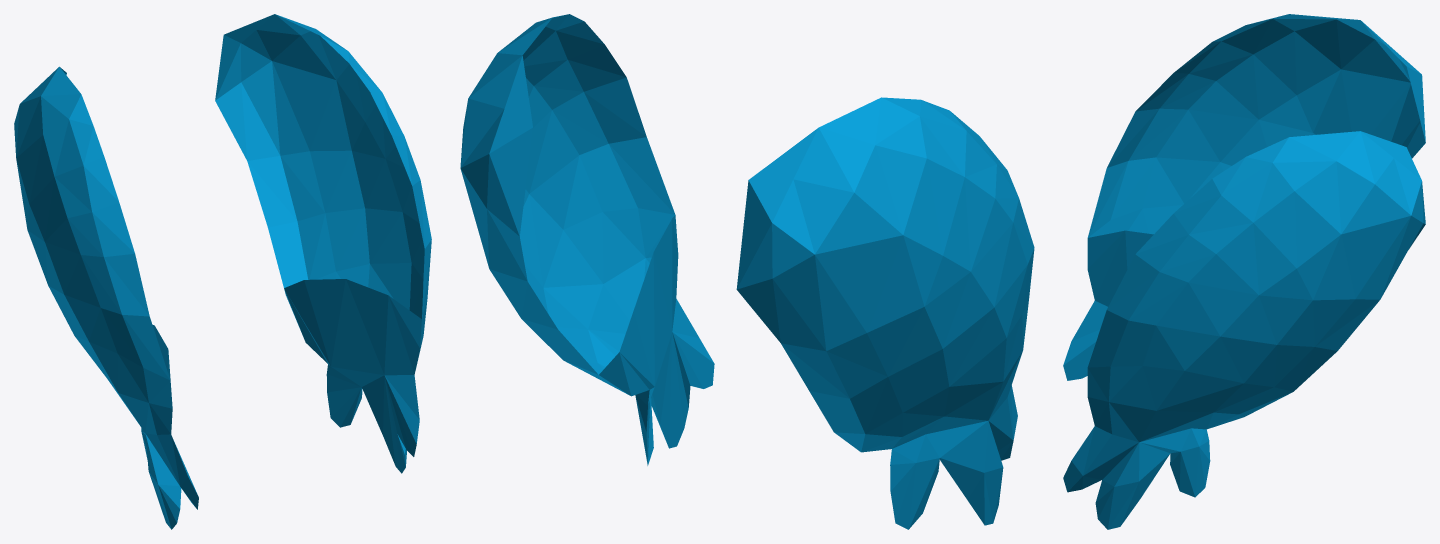
Rendered from BR_Chatot.obj.
3 views of the same model, side by side, from view 1: azimuth 30°, elevation 25°; view 2: azimuth 150°, elevation 25°; view 3: azimuth 270°, elevation 25° (orthographic). The views are drawn at different scales.
Parts seen in each view (by area): view 1: perap; view 2: perap; view 3: perap.
Part boxes in pixels (bbox=[...]): perap: bbox=[14, 14, 431, 529]; perap: bbox=[460, 14, 1034, 529]; perap: bbox=[1063, 14, 1425, 529].
Size of the model in its own units: 1.81 by 1.9 by 1.58.
Materials: 1 (1 with a texture image).
